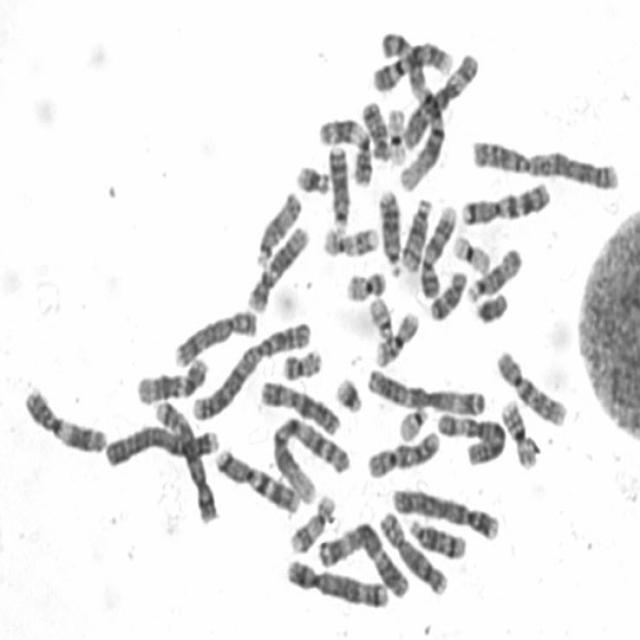A1: (375, 24, 448, 192), (266, 407, 350, 506)
A2: (187, 314, 313, 422), (466, 130, 622, 192)
A3: (312, 514, 411, 600), (360, 358, 488, 418)
B4: (387, 480, 500, 543), (99, 416, 222, 468)
B5: (150, 393, 220, 525), (280, 550, 390, 609)
C10: (491, 342, 569, 429), (362, 422, 442, 480)
C11: (18, 380, 110, 455), (313, 110, 374, 188)
C12: (241, 218, 311, 314), (131, 349, 209, 406)
C6: (398, 45, 481, 151), (432, 405, 507, 467)
C7: (210, 440, 303, 515), (456, 173, 553, 226)
C8: (374, 503, 450, 597), (169, 302, 259, 369)
C9: (366, 32, 456, 93), (415, 198, 459, 299)
D13: (374, 181, 404, 278), (324, 138, 352, 234)
D14: (404, 511, 468, 561), (396, 190, 434, 274)
D15: (250, 184, 304, 268), (462, 240, 524, 303)
E16: (495, 392, 540, 469), (370, 304, 420, 368)
E17: (284, 487, 338, 555), (317, 219, 381, 259)
E18: (424, 262, 468, 322), (356, 94, 392, 162)
F19: (448, 227, 492, 276), (382, 100, 408, 166)
F20: (340, 262, 388, 302), (278, 341, 324, 382)
G21: (291, 156, 332, 196), (330, 369, 364, 415)
G22: (392, 398, 431, 442), (364, 289, 396, 342)
X: (255, 372, 343, 436)
Y: (470, 284, 510, 325)
